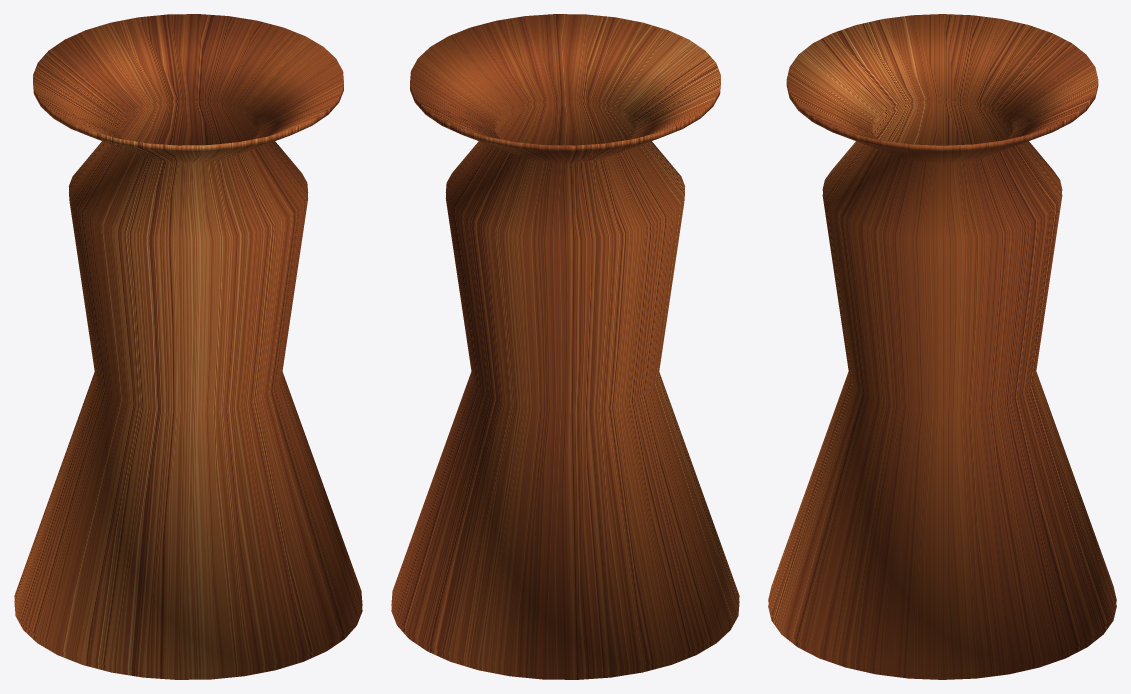
Rendered from Vaza.fbx.
The picture shows the model from 3 angles, left to right: view 1: azimuth 30°, elevation 25°; view 2: azimuth 150°, elevation 25°; view 3: azimuth 270°, elevation 25°; orthographic projection.
Visible parts, largest first — view 1: Circle; view 2: Circle; view 3: Circle.
Part boxes in pixels (left/top/right/bottom): Circle: left=14, top=14, right=362, bottom=679; Circle: left=391, top=14, right=739, bottom=679; Circle: left=768, top=14, right=1116, bottom=679.
Size of the model in its own units: 200 by 333 by 200.
